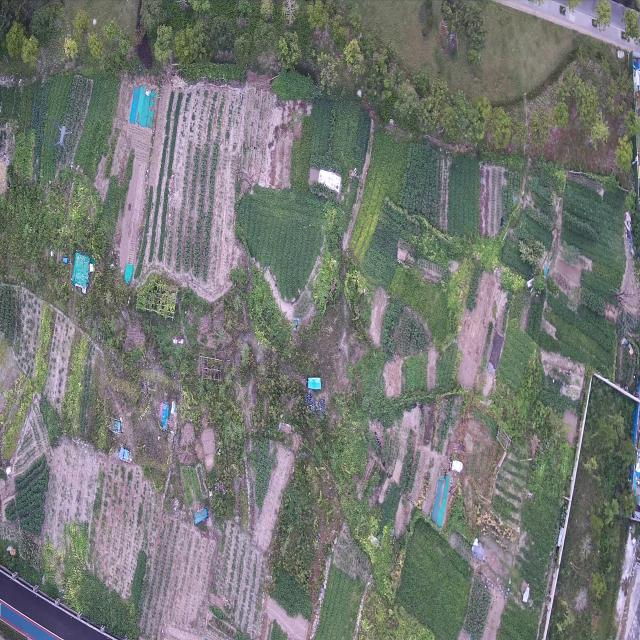UAV: (53, 123, 73, 154)
